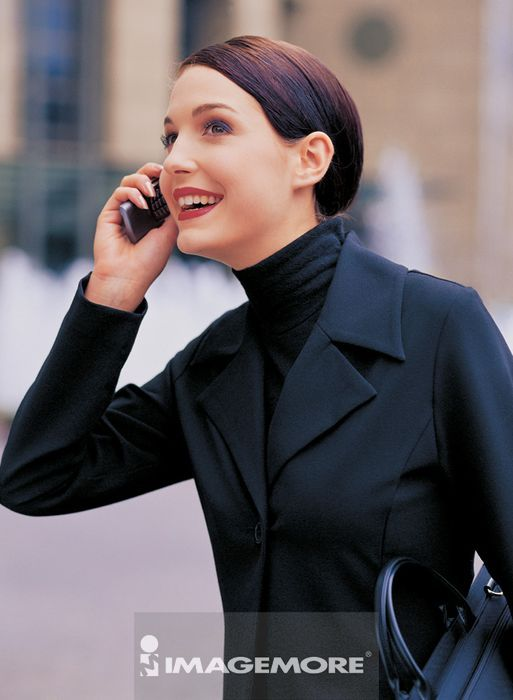talk: (87, 89, 255, 288)
